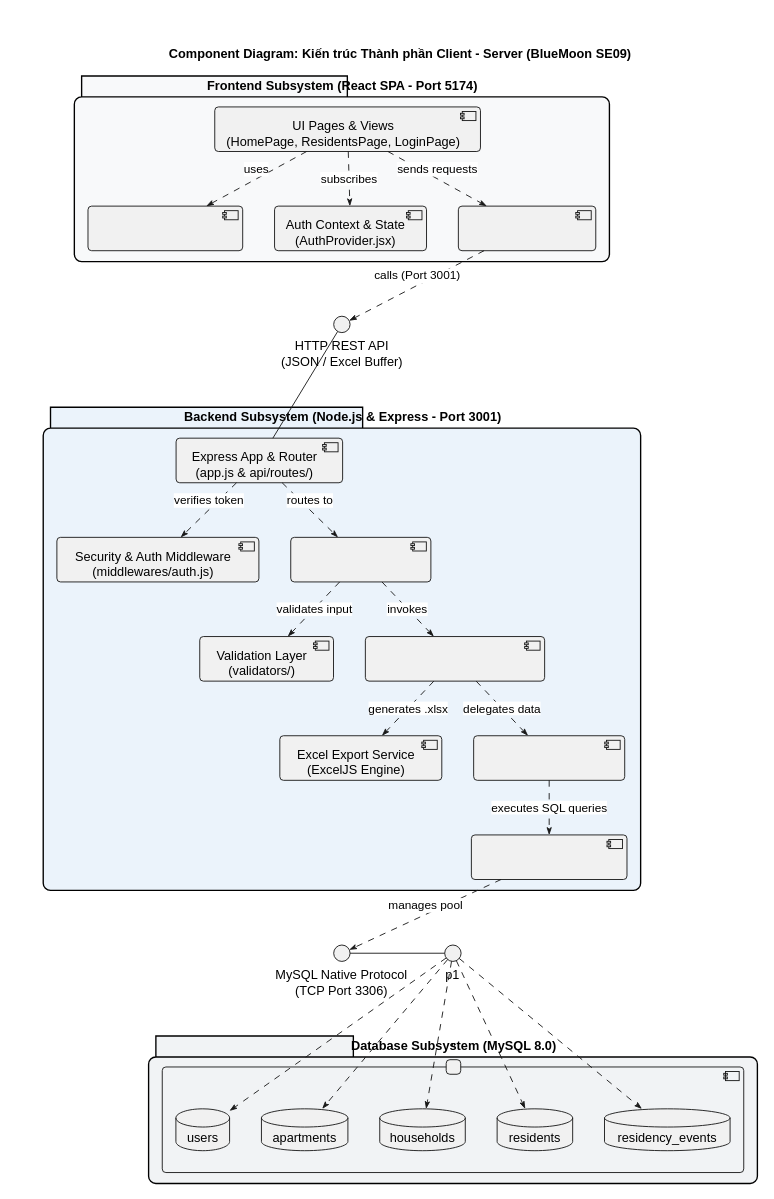
This 774x1199 diagram has some shape labels left out. The box of each missing label's shape, as (x1, y1, x2, y2) in pixels:
Business Services Core (services/): (364, 636, 545, 681)
Database Instance (bluemoon_se09): (161, 1066, 744, 1173)
DB Connection Pool (config/database.js): (470, 834, 627, 880)
HTTP API Client (services/api.js): (457, 205, 596, 251)
React Router Engine (App.jsx): (87, 205, 243, 251)
Repositories Layer (repositories/): (473, 735, 625, 780)
Request Handlers (api/handlers/): (290, 536, 431, 582)
